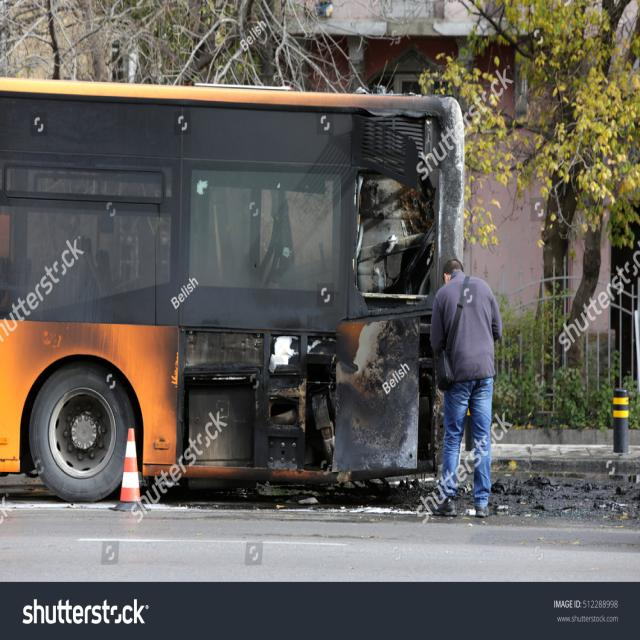Accident: (0, 74, 512, 519)
